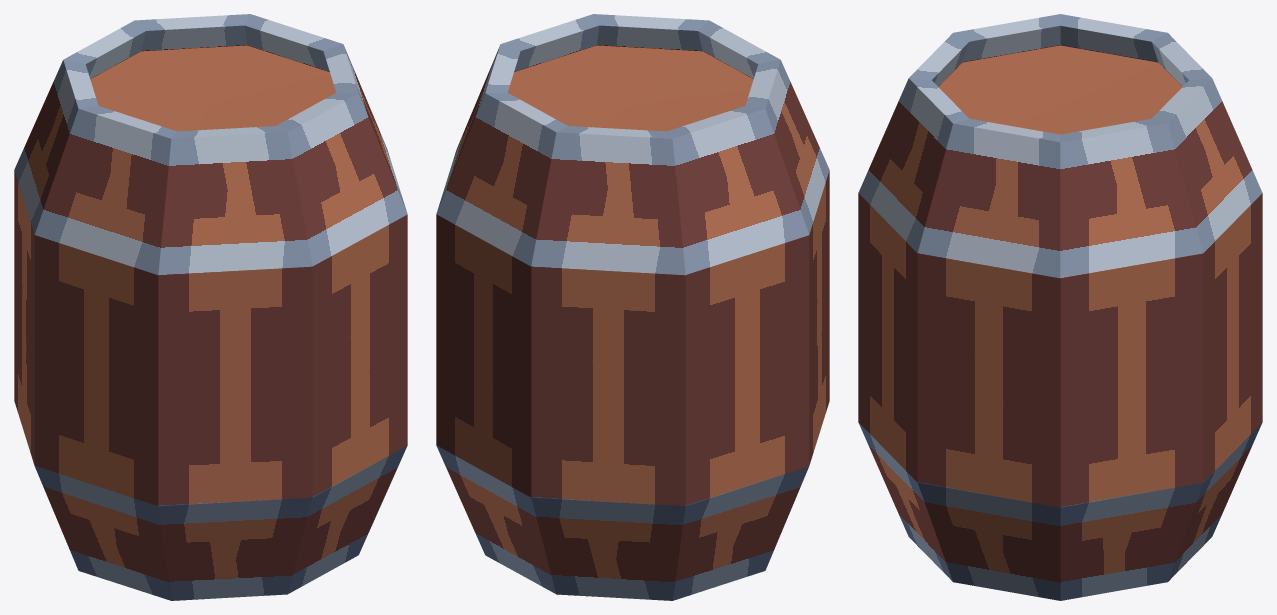
The model's file is barrel.glb.
3 views of the same model, side by side, from view 1: azimuth 30°, elevation 25°; view 2: azimuth 150°, elevation 25°; view 3: azimuth 270°, elevation 25° (orthographic).
Parts seen in each view (by area): view 1: Barrel; view 2: Barrel; view 3: Barrel.
Part boxes in pixels (x1,y1,x2,y2): Barrel: (14, 14, 407, 600); Barrel: (436, 14, 829, 600); Barrel: (858, 14, 1262, 600).
Bounding box in the file's own units: 0.7988 × 1 × 0.7988.
Materials: 1 (1 with a texture image).
